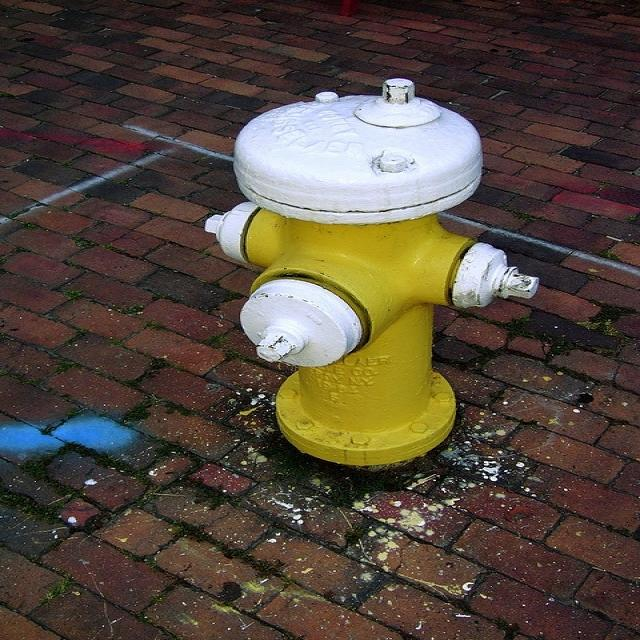fire_hydrant: (179, 49, 570, 490)
